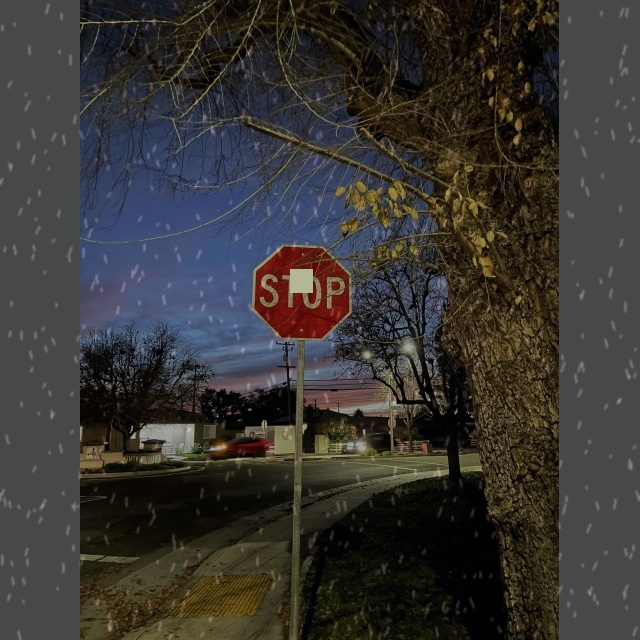Stop: (252, 246, 353, 341)
